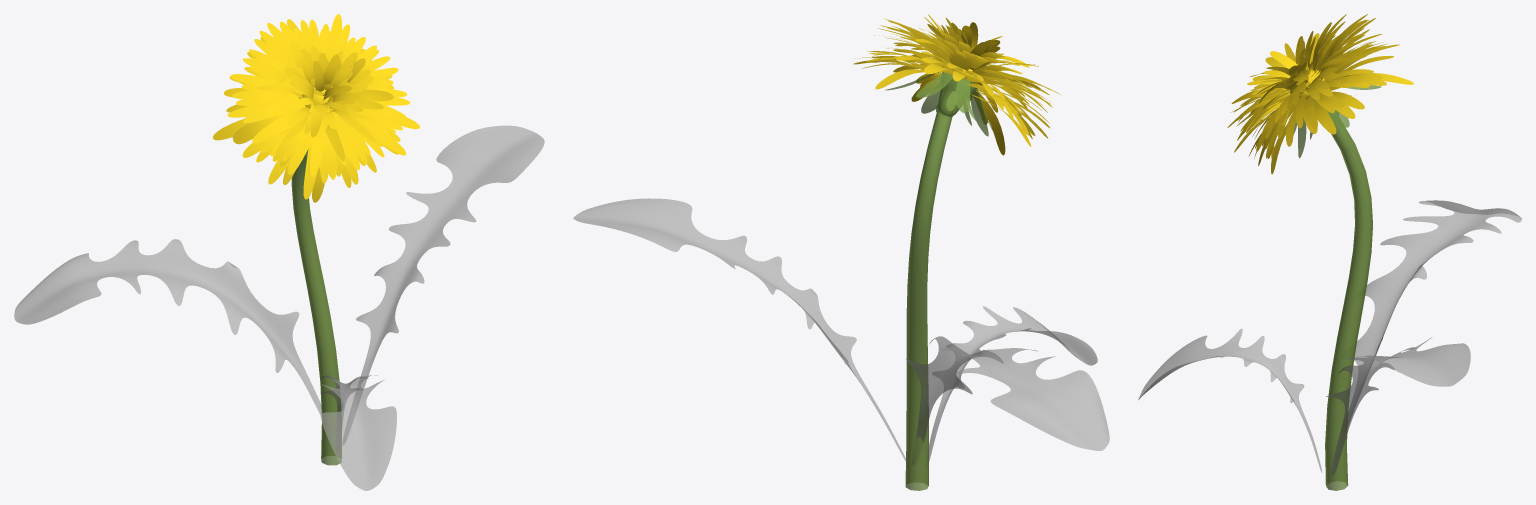
Rendered from object_EN-plants-dandelion_4.glb.
3 renders of one model, left to right at view 1: azimuth 30°, elevation 25°; view 2: azimuth 150°, elevation 25°; view 3: azimuth 270°, elevation 25°, orthographic. The views are drawn at different scales.
Parts seen in each view (by area): view 1: GEO-plants-dandelion-petals.007, GEO-leaf.dandelion.012, GEO-leaf.dandelion.010, GEO-leaf.dandelion.011, GEO-plants-dandelion-stem.004; view 2: GEO-plants-dandelion-petals.007, GEO-leaf.dandelion.012, GEO-plants-dandelion-stem.004, GEO-leaf.dandelion.010, GEO-leaf.dandelion.011; view 3: GEO-plants-dandelion-petals.007, GEO-plants-dandelion-stem.004, GEO-leaf.dandelion.012, GEO-leaf.dandelion.010, GEO-leaf.dandelion.011.
Boxes of the visible parts, x1,y1,x2,y2 form: GEO-plants-dandelion-petals.007: (213, 14, 419, 202); GEO-leaf.dandelion.012: (14, 239, 321, 416); GEO-leaf.dandelion.010: (342, 125, 544, 444); GEO-leaf.dandelion.011: (320, 374, 396, 490); GEO-plants-dandelion-stem.004: (291, 151, 341, 465); GEO-plants-dandelion-petals.007: (853, 14, 1061, 155); GEO-leaf.dandelion.012: (906, 336, 1109, 450); GEO-plants-dandelion-stem.004: (905, 84, 952, 490); GEO-leaf.dandelion.010: (573, 198, 905, 461); GEO-leaf.dandelion.011: (929, 306, 1097, 461); GEO-plants-dandelion-petals.007: (1227, 14, 1413, 174); GEO-plants-dandelion-stem.004: (1325, 117, 1372, 490); GEO-leaf.dandelion.012: (1348, 200, 1521, 425); GEO-leaf.dandelion.010: (1326, 337, 1470, 475); GEO-leaf.dandelion.011: (1138, 328, 1321, 472).
Size of the model in its own units: 0.1658 by 0.1378 by 0.1068.
